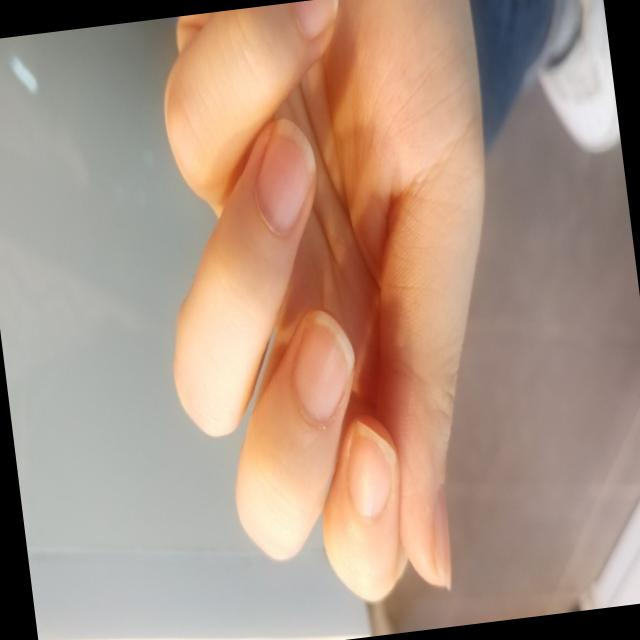Nail: (253, 119, 314, 234), (292, 310, 354, 422), (347, 421, 394, 517), (429, 481, 450, 591), (291, 0, 337, 38)
